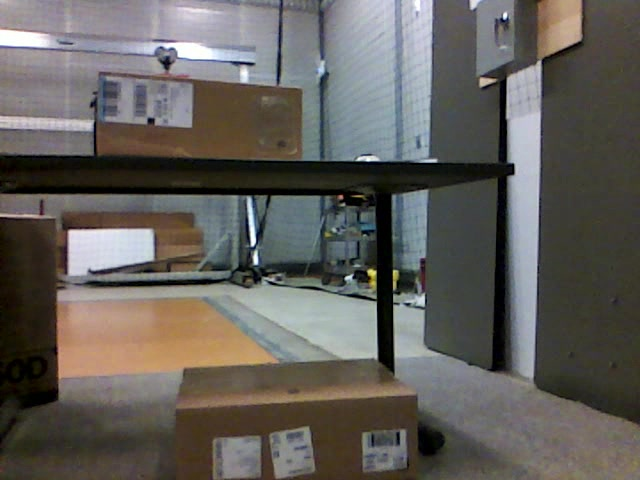box: (176, 356, 415, 480), (97, 72, 302, 158), (1, 213, 60, 409)
